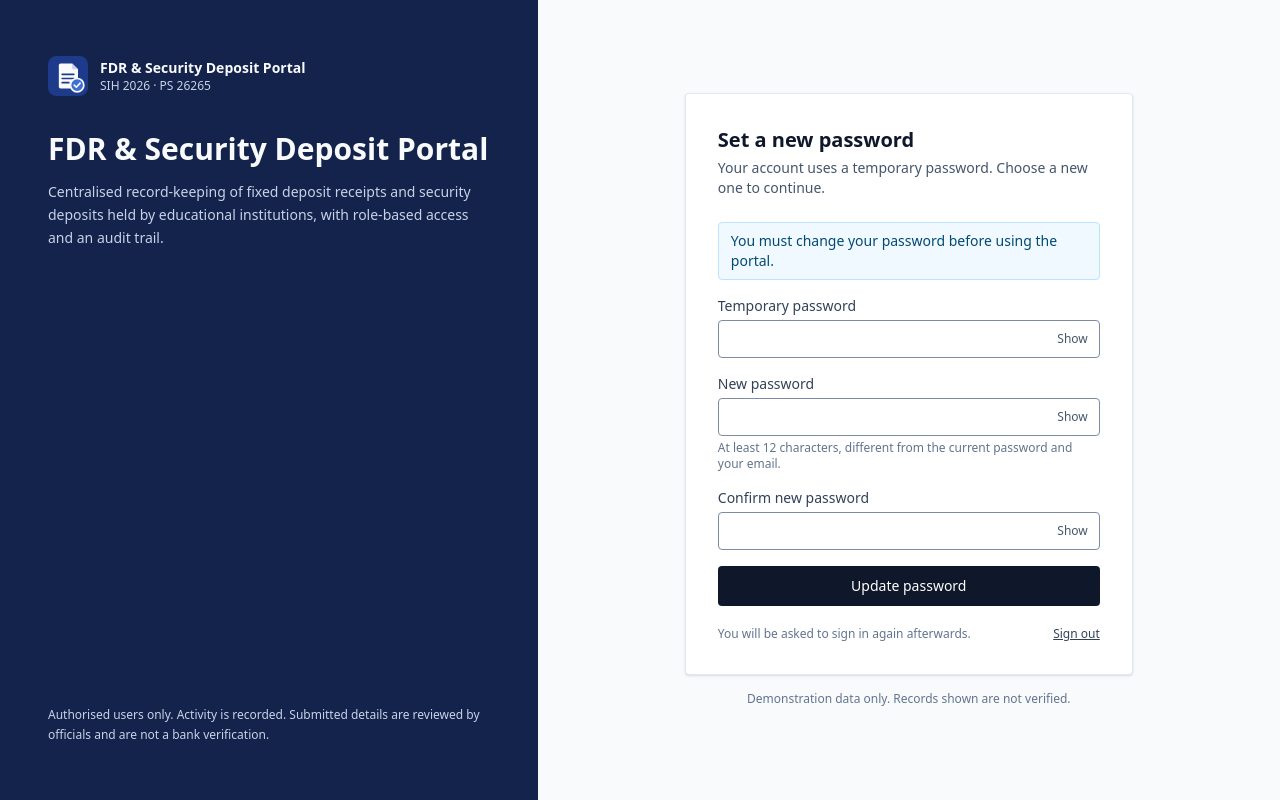
Test: client-side validation (the API is not called) › rejects a new password that is empty
The width and height of the screenshot is (1280, 800).
Expected: the heading "Set a new password" is shown, [718, 126, 914, 153]
Click the password field labelled "Temporary password" at (909, 339), box [718, 320, 1100, 358]
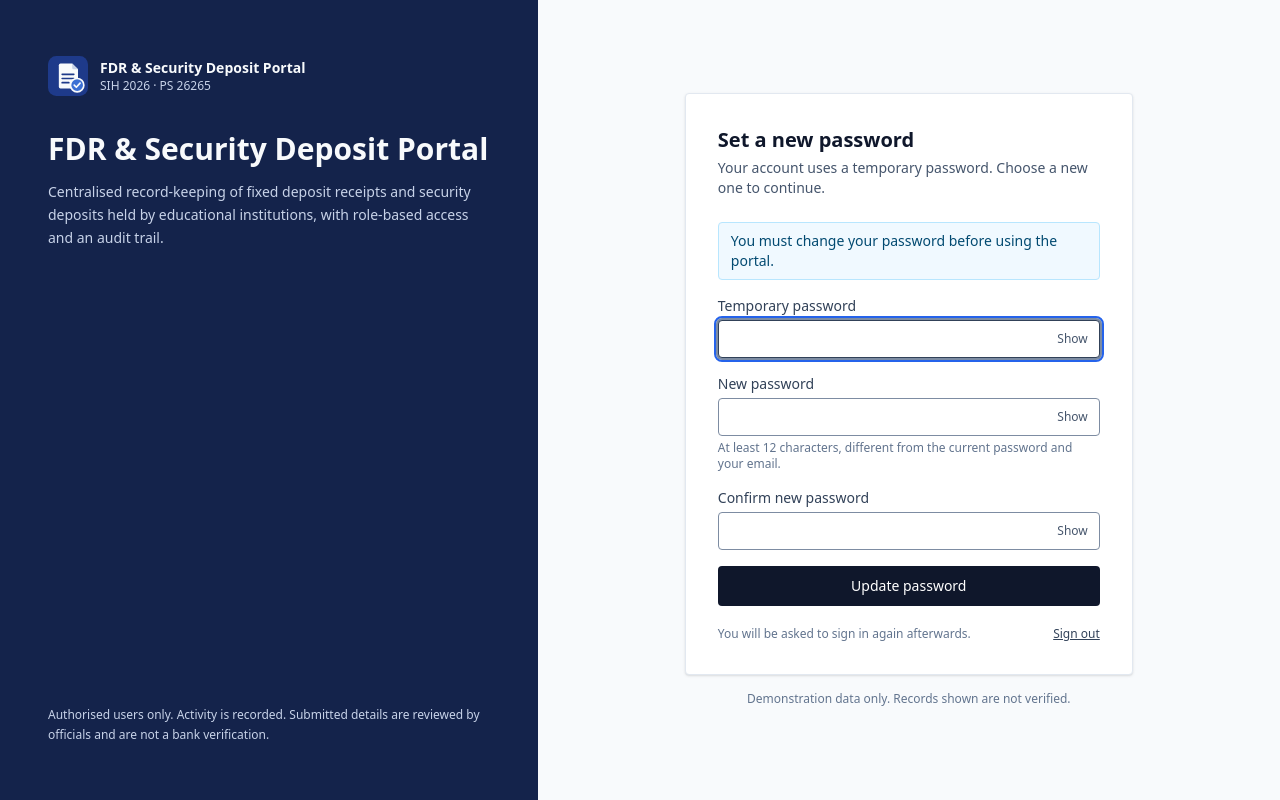
Type keys "temporary-password-1"
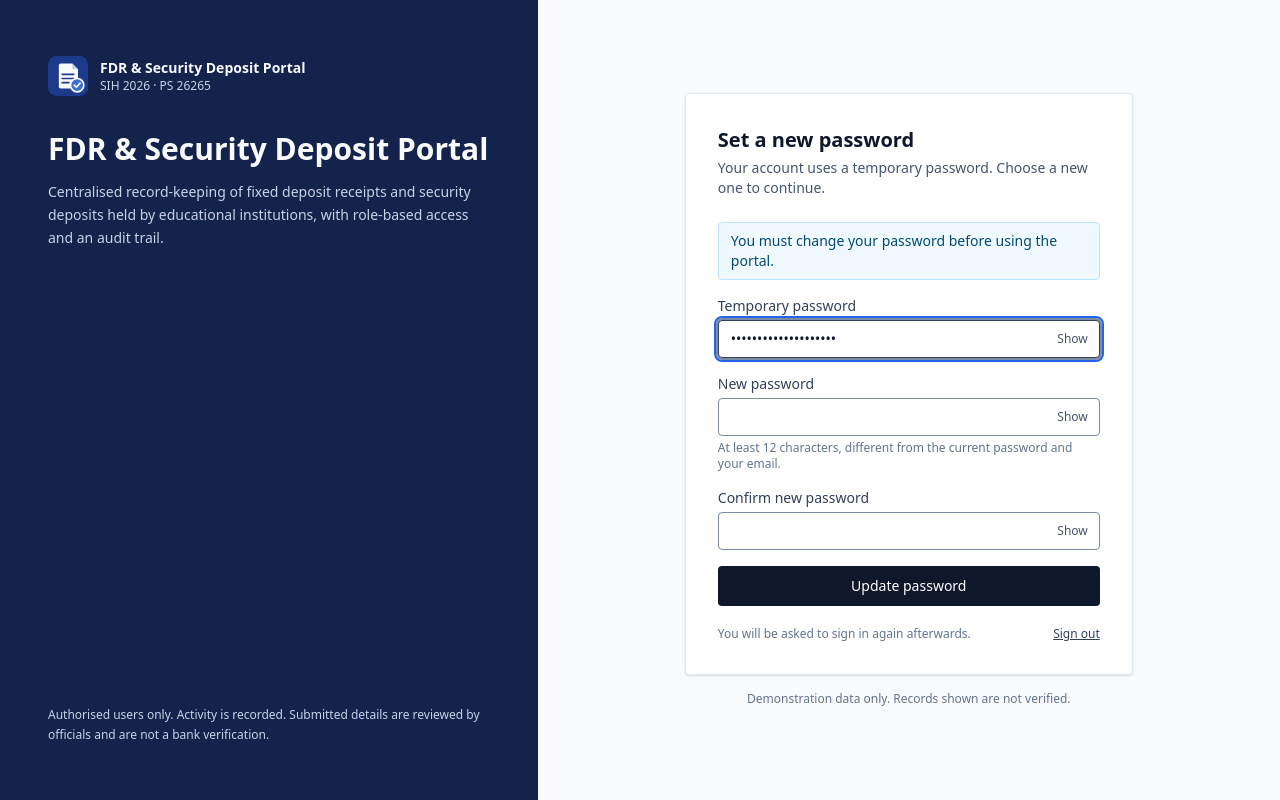
Click the password field labelled "New password" at (909, 417), box [718, 398, 1100, 436]
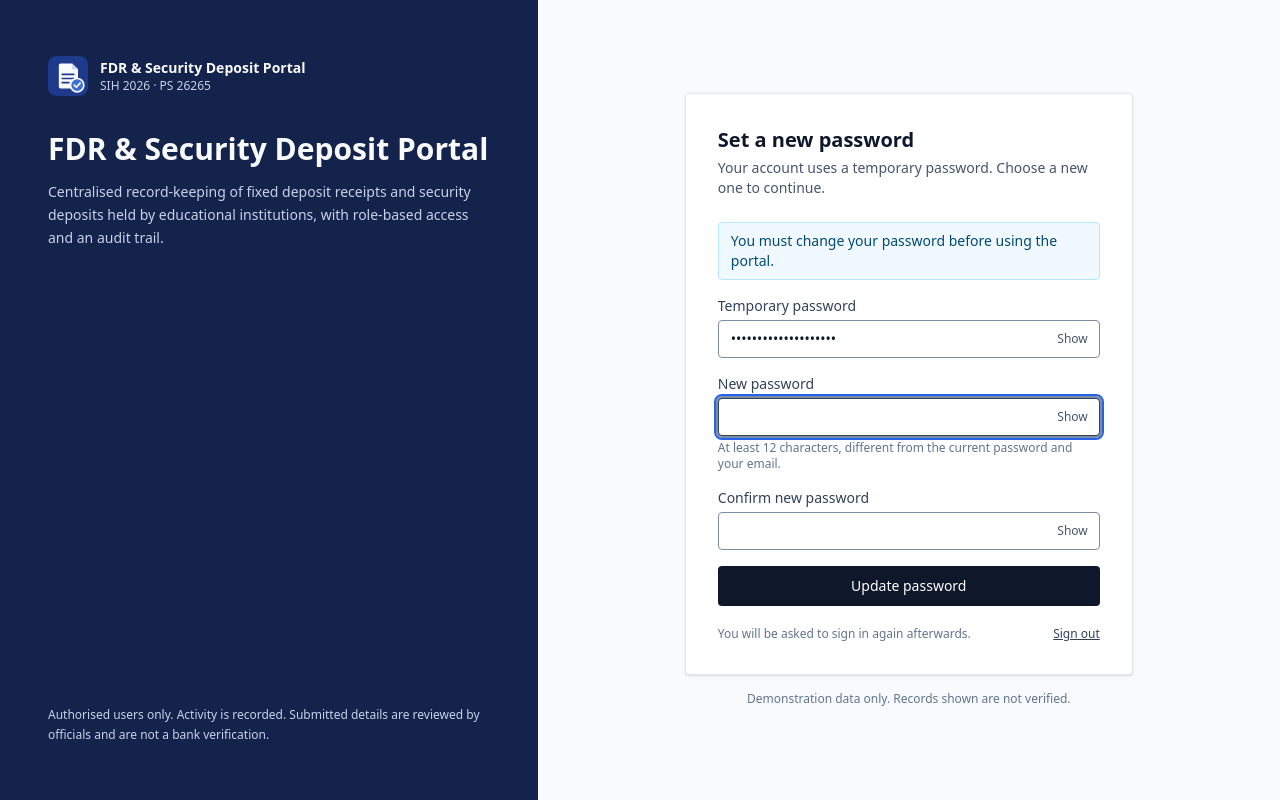
Type keys ""
Click the password field labelled "Confirm new password" at (909, 531), box [718, 512, 1100, 550]
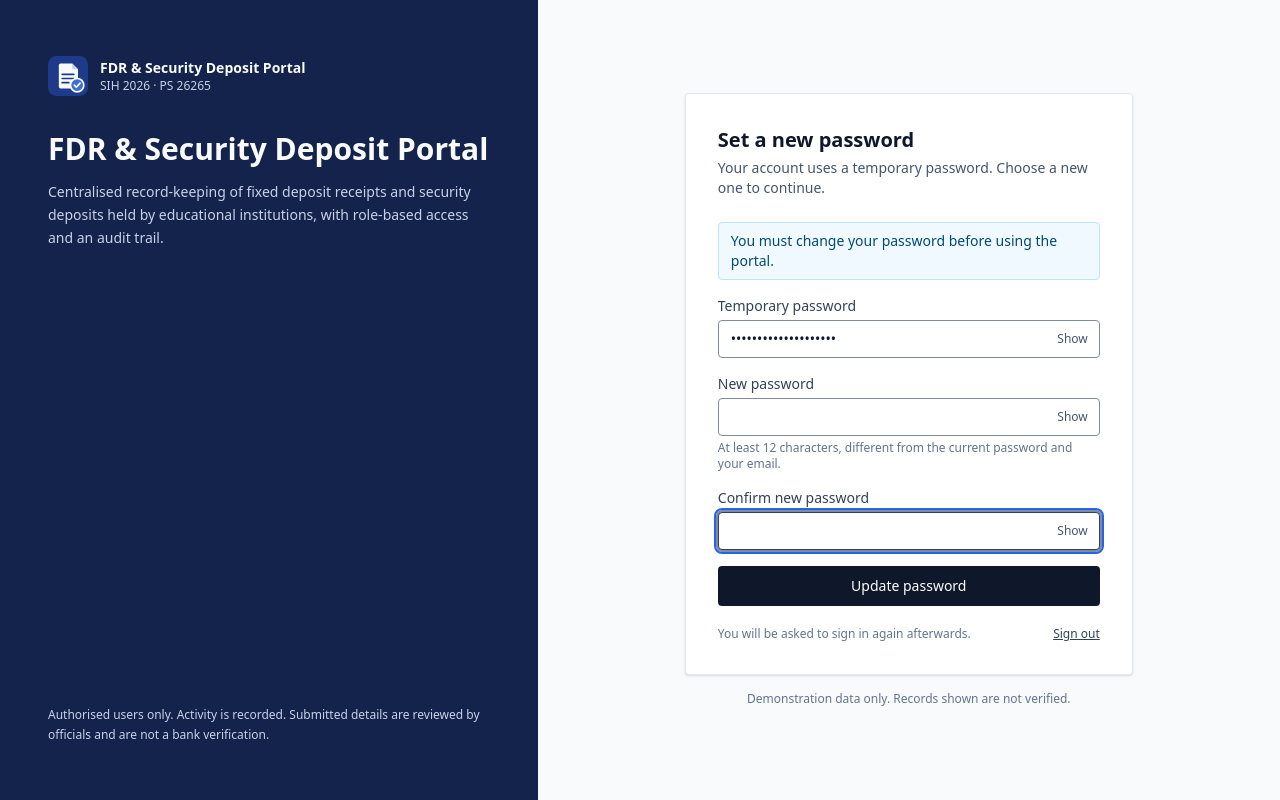
Type keys ""
Click the button "Update password" at (909, 586), box [718, 566, 1100, 606]
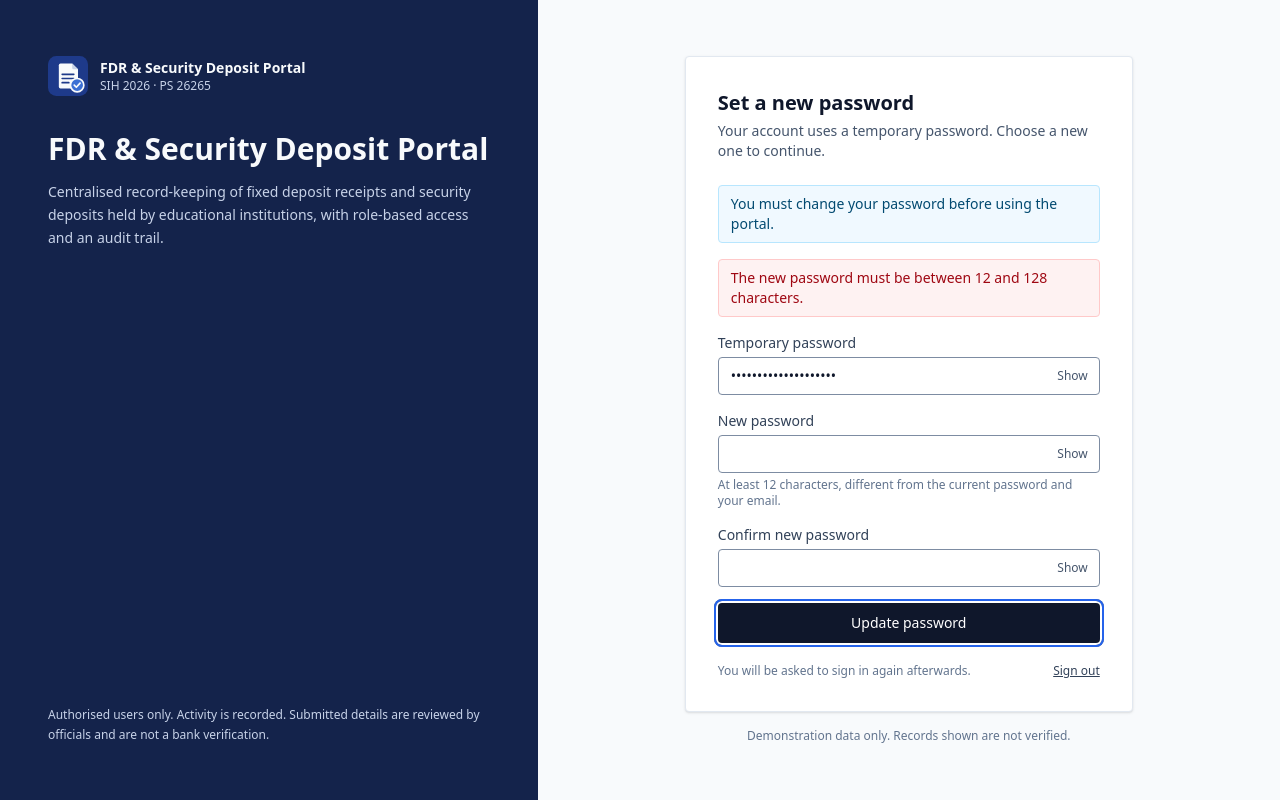
Expected: the message "The new password must be between 12 and 128 characters." is shown, [718, 259, 1100, 317]
